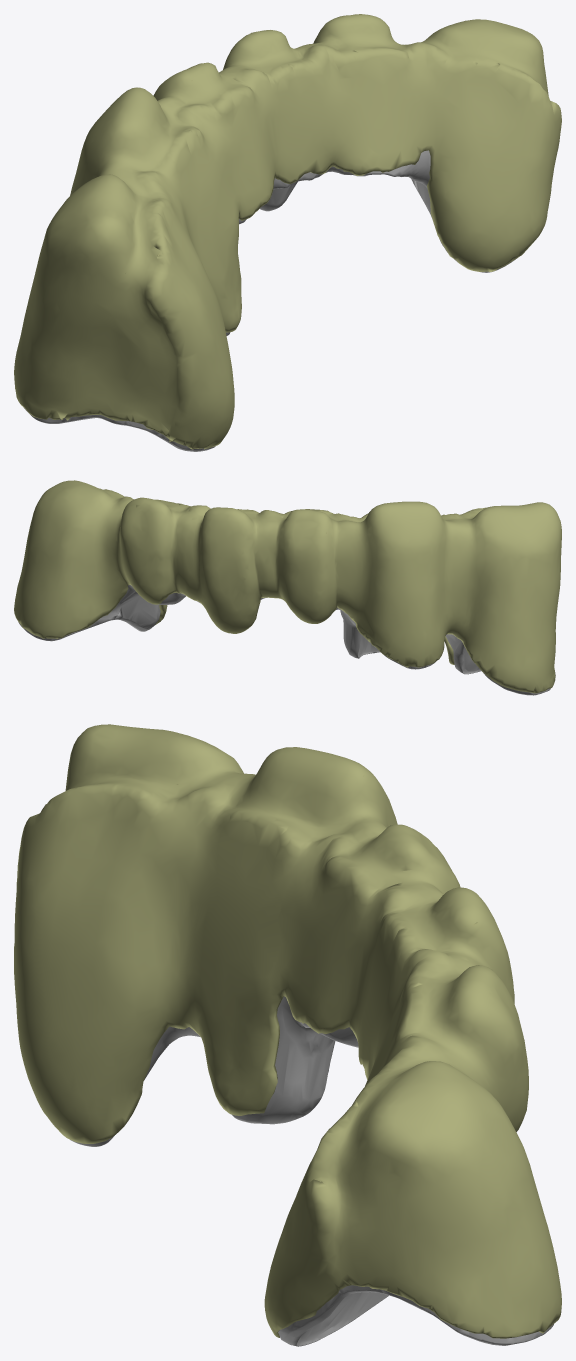
Rendered from tooth2-v1.glb.
The picture shows the model from 3 angles, top to bottom: view 1: azimuth 30°, elevation 25°; view 2: azimuth 150°, elevation 25°; view 3: azimuth 270°, elevation 25°; orthographic projection. The views are drawn at different scales.
Parts seen in each view (by area): view 1: 瓷牙, 2026-02-02_00011-007-33-32-31-41-42-43-bridge_slm_cad; view 2: 瓷牙, 2026-02-02_00011-007-33-32-31-41-42-43-bridge_slm_cad; view 3: 瓷牙, 2026-02-02_00011-007-33-32-31-41-42-43-bridge_slm_cad.
Boxes of the visible parts, box(x1,y1,x2,y2) form: 瓷牙: box(14, 14, 561, 449); 2026-02-02_00011-007-33-32-31-41-42-43-bridge_slm_cad: box(23, 150, 516, 451); 瓷牙: box(14, 480, 561, 693); 2026-02-02_00011-007-33-32-31-41-42-43-bridge_slm_cad: box(18, 585, 550, 695); 瓷牙: box(14, 724, 561, 1338); 2026-02-02_00011-007-33-32-31-41-42-43-bridge_slm_cad: box(70, 996, 553, 1346).
Size of the model in its own units: 0.6531 by 0.2933 by 0.3663.
Materials: 2 (1 with a texture image).
